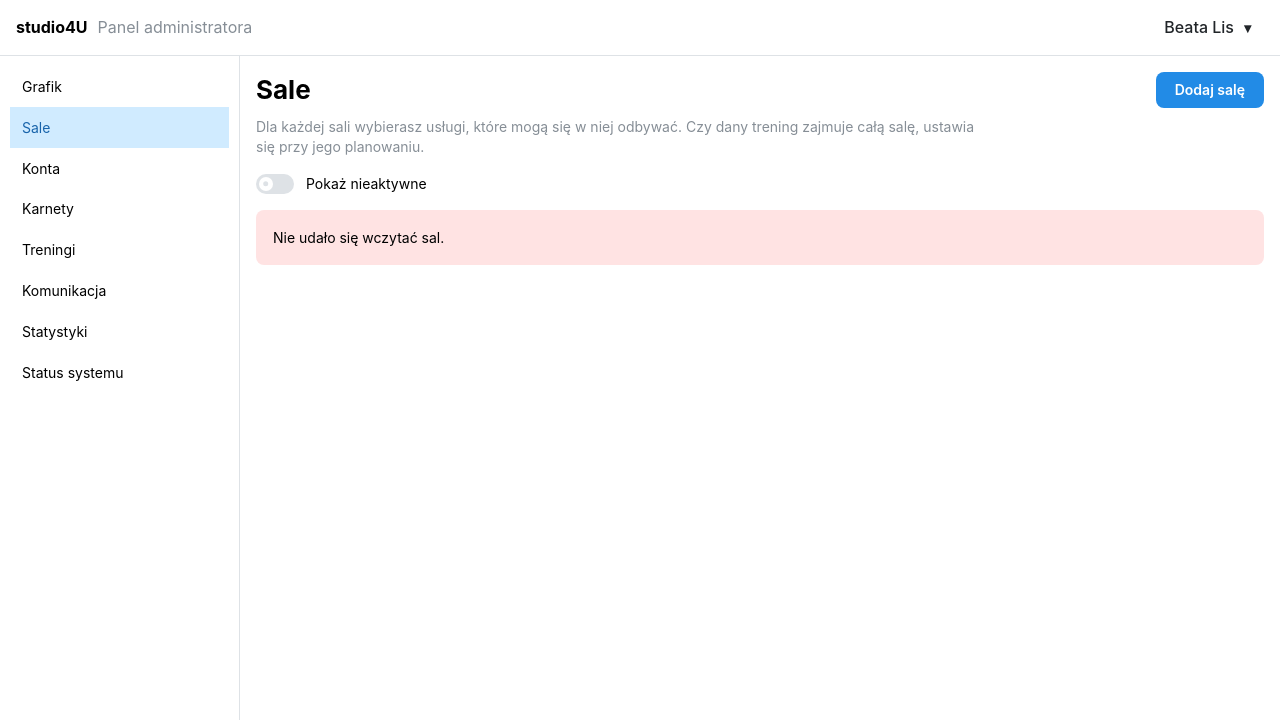
Test case: checks the new password before changing it
This screenshot has width=1280, height=720.
Click the button "Beata Lis ▾" at point(1205, 28), box [1145,10,1264,46]
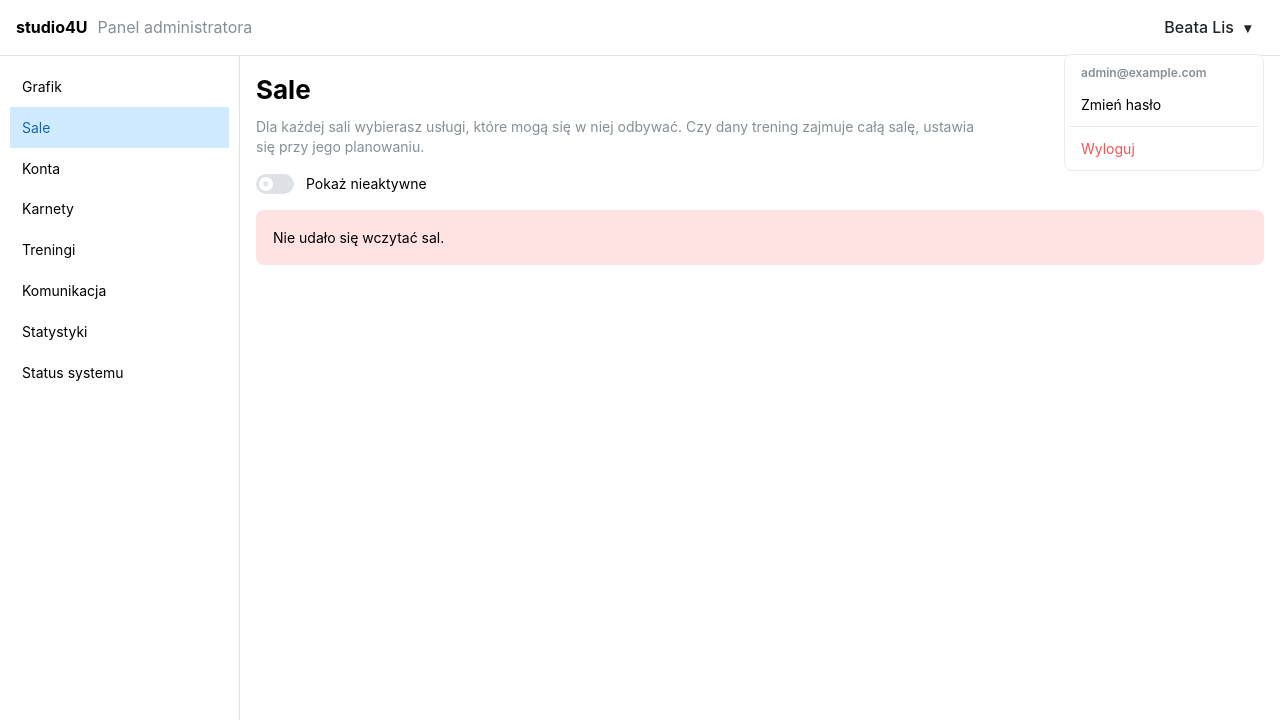
Click the menu item "Zmień hasło" at point(1164, 105), box [1069,87,1259,122]
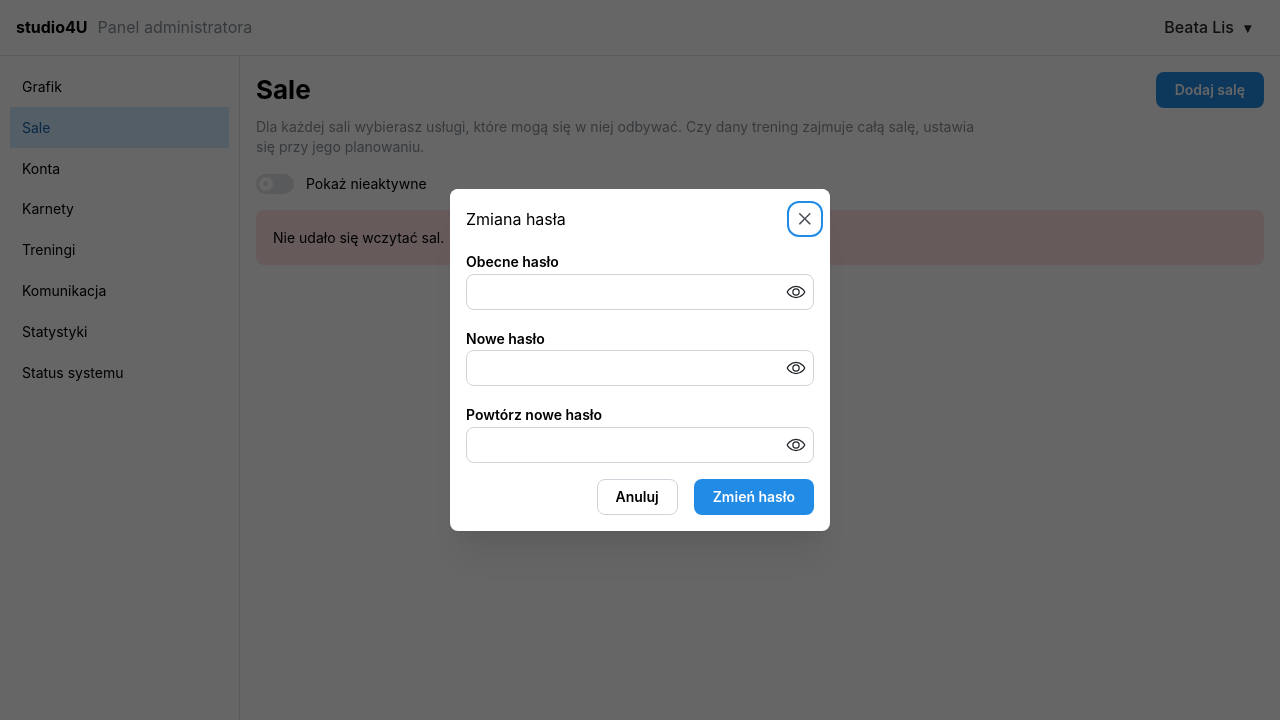
Type "krotkie" into the password field labelled "Nowe hasło" at point(640, 368), box [467,351,813,385]
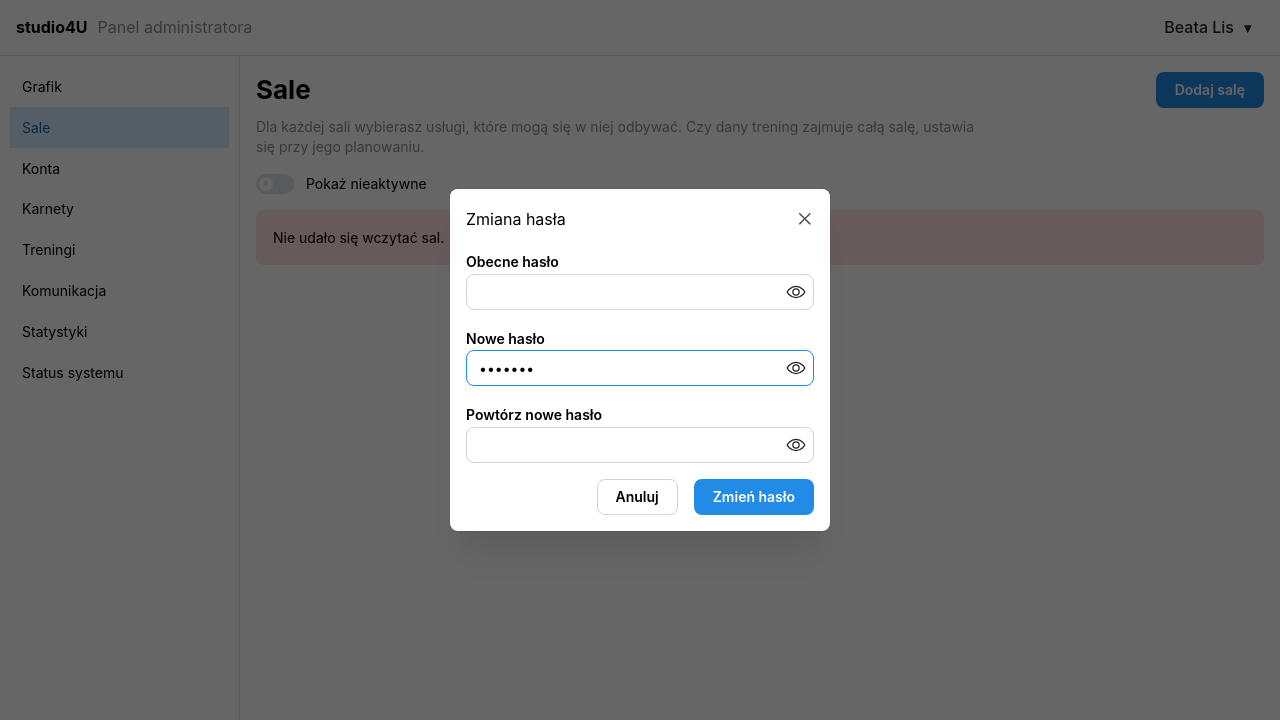
Type "inne" into the password field labelled "Powtórz nowe hasło" at point(640, 445), box [467,428,813,462]
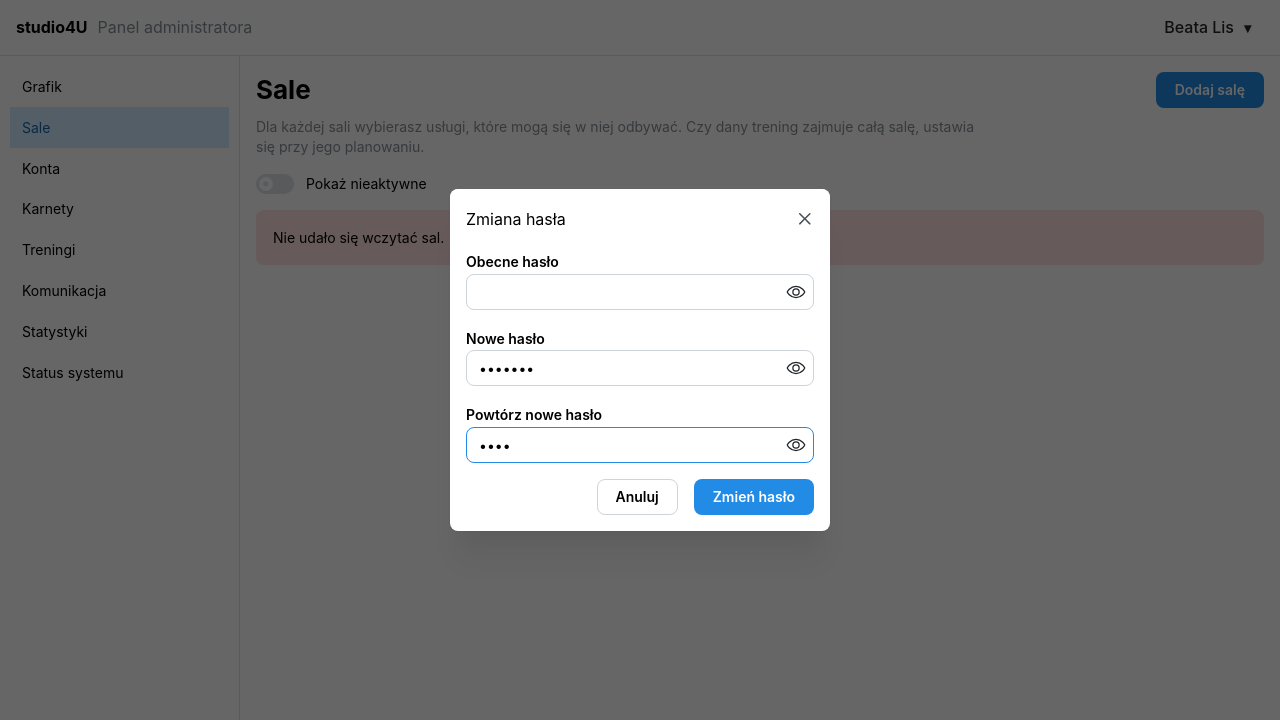
Click the button "Zmień hasło" at point(754, 497), box [694,479,814,515]
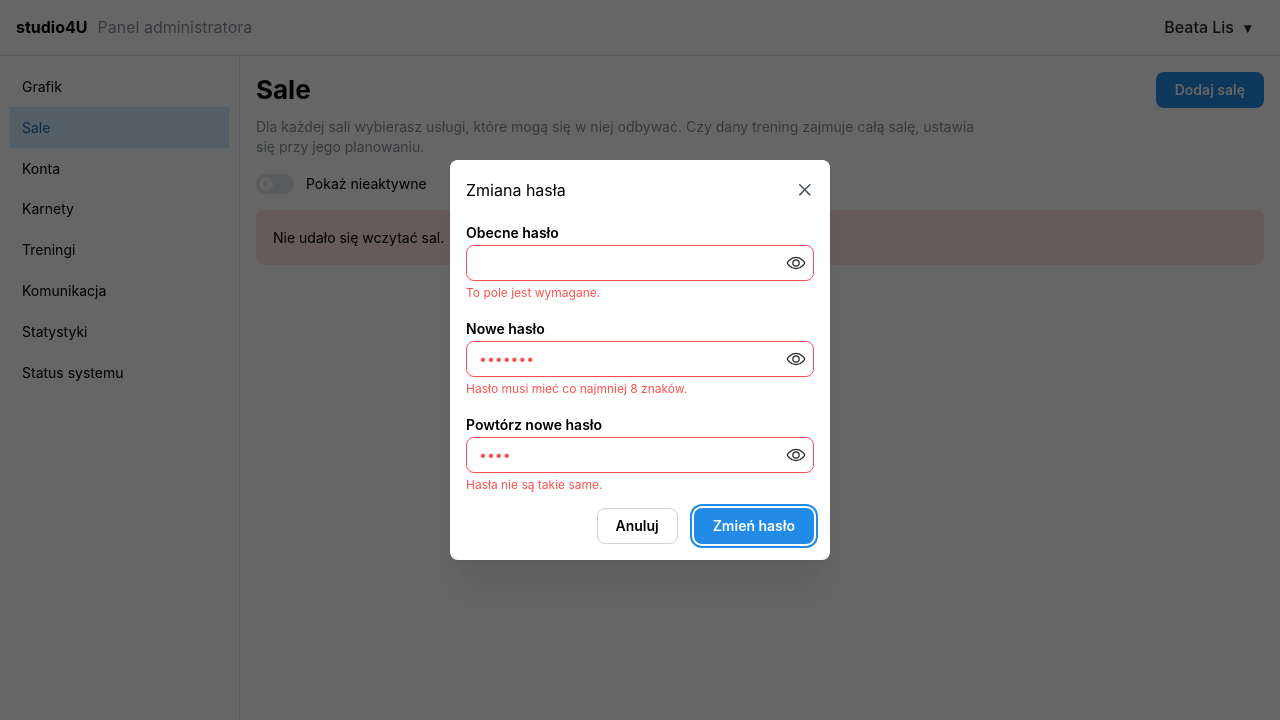
Expected: the text "To pole jest wymagane." is shown, [466,284,600,300]
Expected: the text "Hasła nie są takie same." is shown, [466,477,602,492]
